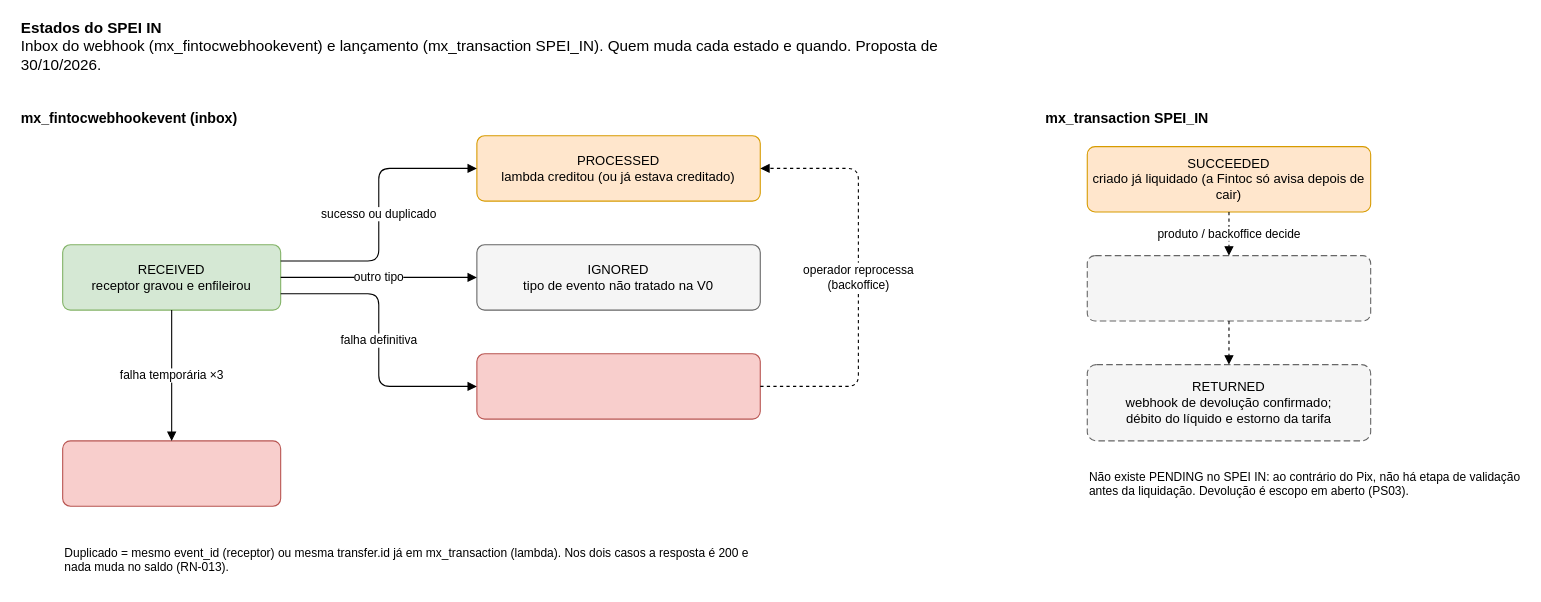
This 1541x602 diagram has some shape labels left out. The shapes that lost their labels are listed below. From the top down, each one's centre as x and y in pixels, then its label:
At (1228,288): "RETURN_PENDING devolução pedida (Return a transfer)".
At (618,386): "ERROR conta inexistente / bloqueada / erro definitivo".
At (171,473): "DLQ 3 entregas com exceção (429, rede, banco)".
